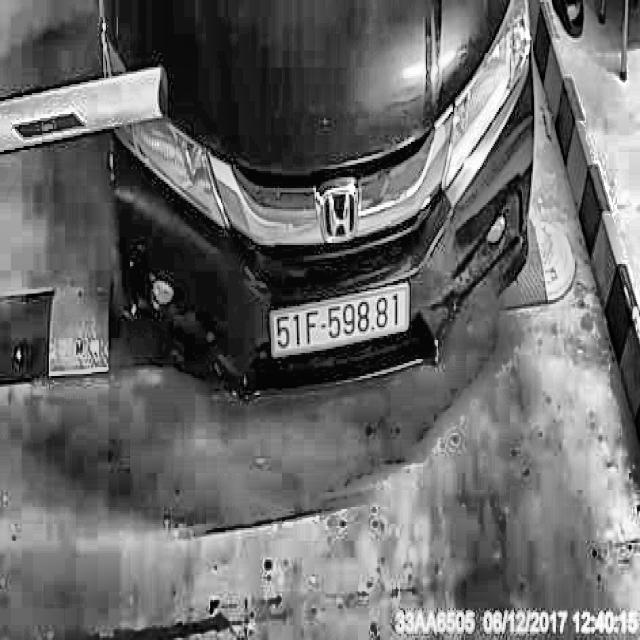plate: (268, 272, 418, 364)
